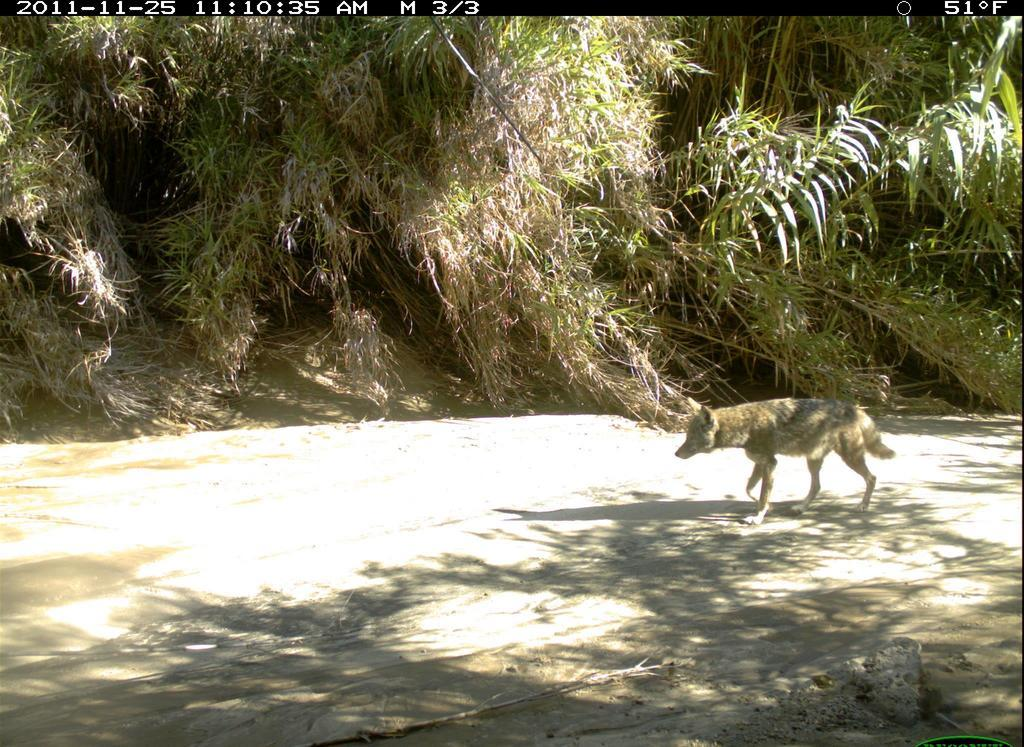coyote: (674, 395, 902, 528)
